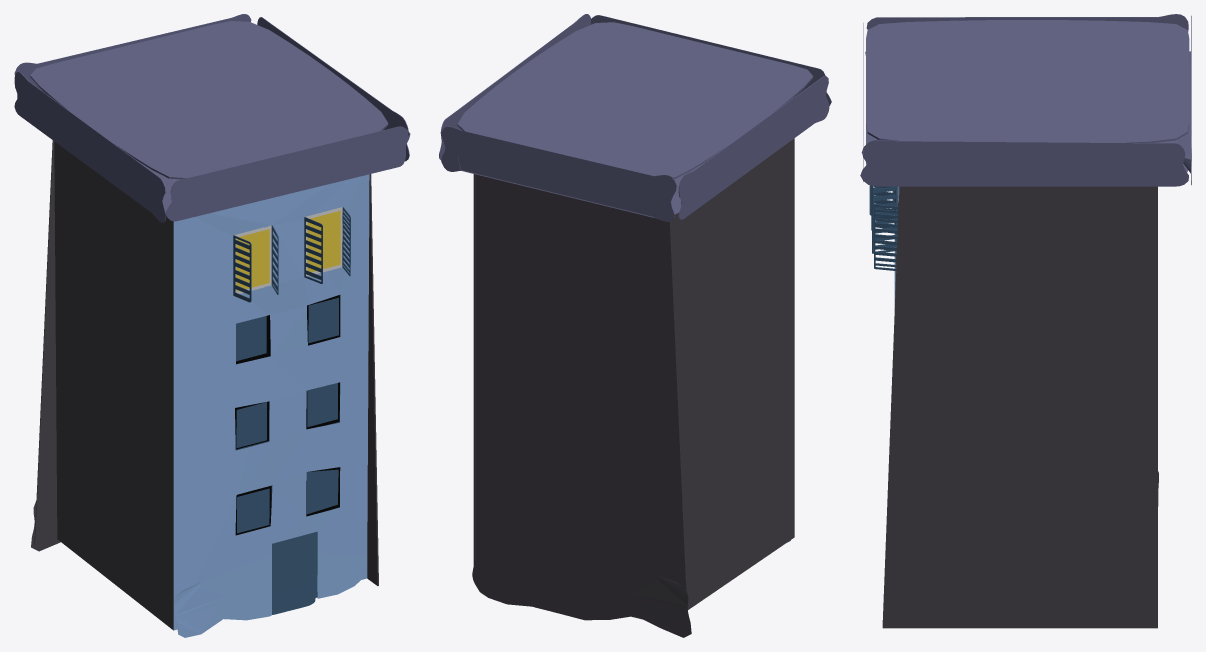
File: Palazzo Lungo - Giallo.fbx
The picture shows the model from 3 angles, left to right: view 1: azimuth 30°, elevation 25°; view 2: azimuth 150°, elevation 25°; view 3: azimuth 270°, elevation 25°; orthographic projection. The views are drawn at different scales.
Visible parts, largest first — view 1: Palazzo; view 2: Palazzo; view 3: Palazzo.
Boxes of the visible parts, <box> form: Palazzo: <box>14,14,410,637</box>; Palazzo: <box>439,14,831,637</box>; Palazzo: <box>860,14,1191,628</box>.
Bounding box in the file's own units: 69.87 × 133 × 76.56.
